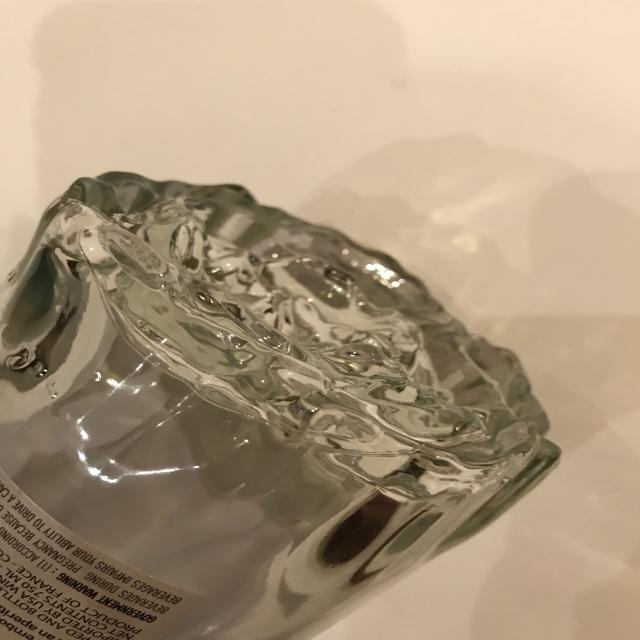glass: (0, 170, 562, 640)
